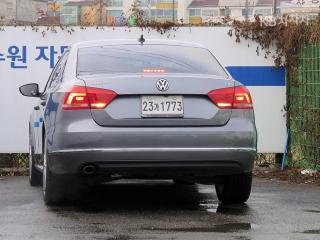1: (160, 101, 165, 111)
2: (142, 101, 148, 112)
3: (148, 101, 154, 113), (177, 101, 182, 112)
7: (165, 101, 171, 112), (171, 101, 177, 111)
가: (154, 103, 161, 112)
